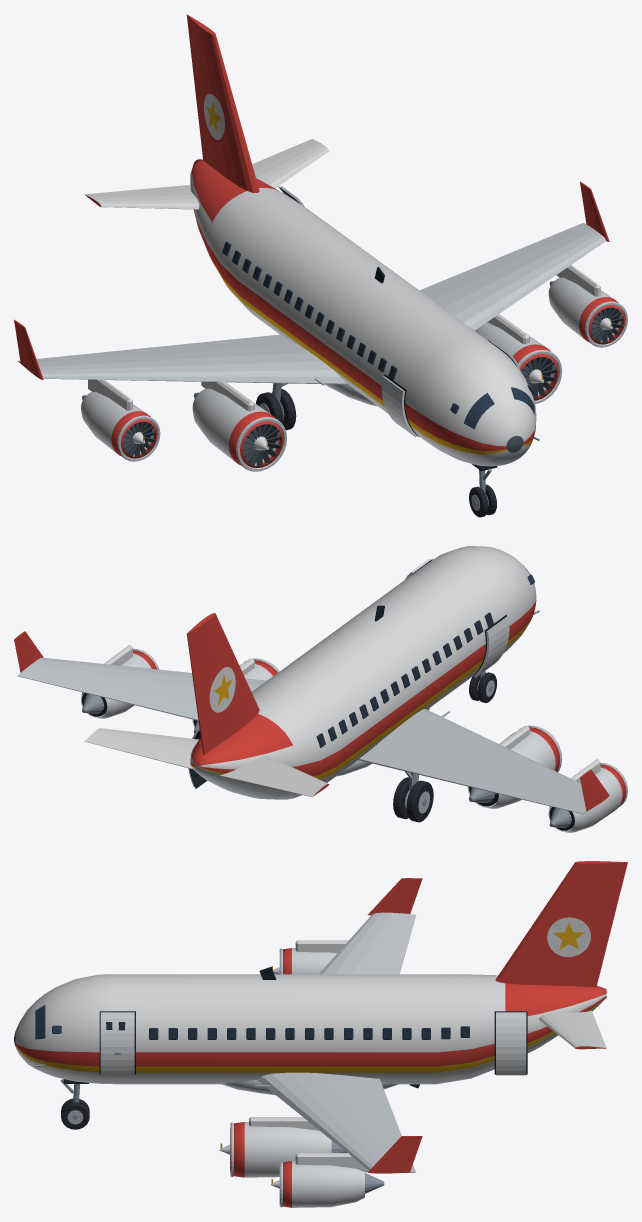
File: skyport-wide.glb
3 views of the same model, one above another, from view 1: azimuth 30°, elevation 25°; view 2: azimuth 150°, elevation 25°; view 3: azimuth 270°, elevation 25° (orthographic). The views are drawn at different scales.
Parts seen in each view (by area): view 1: sp_wide_mesh, sp_wide_fanr_mesh, sp_wide_wheel_r_mesh, sp_wide_hold_mesh, sp_wide_fanl_mesh, sp_wide_fanl2_mesh, sp_wide_fanr2_mesh, sp_wide_wheel_n_mesh; view 2: sp_wide_mesh, sp_wide_wheel_r_mesh, sp_wide_hold_mesh, sp_wide_wheel_n_mesh; view 3: sp_wide_mesh, sp_wide_door_mesh, sp_wide_galley_mesh, sp_wide_wheel_n_mesh.
Part boxes in pixels (<box>): sp_wide_mesh: <box>14,14,627,471</box>; sp_wide_fanr_mesh: <box>243,424,281,466</box>; sp_wide_wheel_r_mesh: <box>256,389,296,430</box>; sp_wide_hold_mesh: <box>381,376,416,437</box>; sp_wide_fanl_mesh: <box>521,357,556,398</box>; sp_wide_fanl2_mesh: <box>591,307,623,342</box>; sp_wide_fanr2_mesh: <box>123,421,155,456</box>; sp_wide_wheel_n_mesh: <box>469,484,496,517</box>; sp_wide_mesh: <box>14,546,627,832</box>; sp_wide_wheel_r_mesh: <box>393,777,433,822</box>; sp_wide_hold_mesh: <box>474,617,509,677</box>; sp_wide_wheel_n_mesh: <box>469,672,496,702</box>; sp_wide_mesh: <box>14,861,627,1207</box>; sp_wide_door_mesh: <box>100,1012,134,1075</box>; sp_wide_galley_mesh: <box>496,1012,526,1075</box>; sp_wide_wheel_n_mesh: <box>61,1098,89,1129</box>.
Size of the model in its own units: 20.69 by 9.86 by 20.71.
